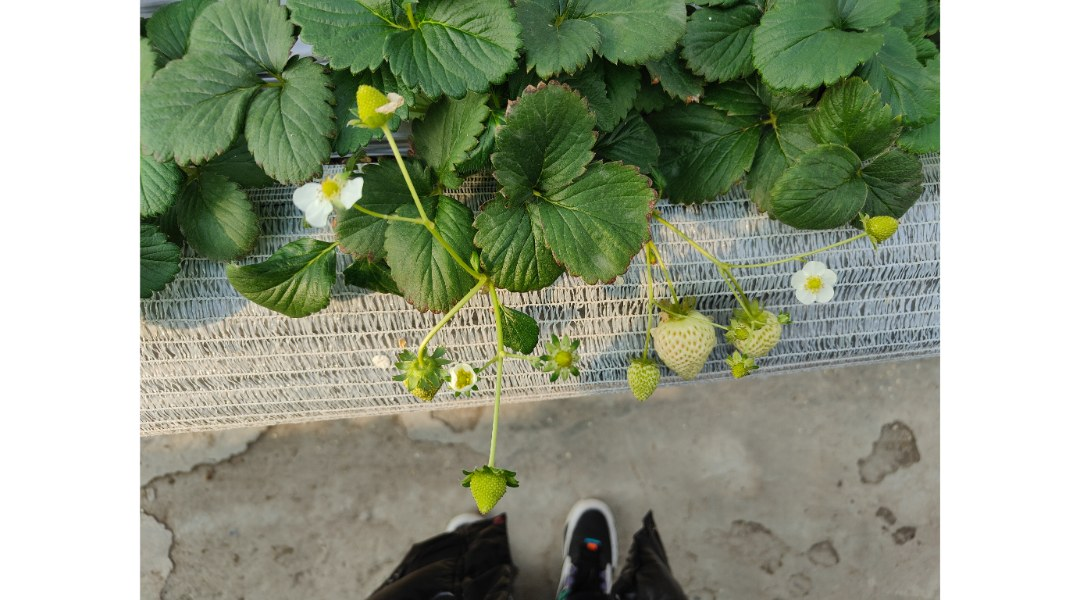berry: (645, 288, 719, 378), (730, 297, 786, 365), (389, 344, 442, 412), (461, 462, 519, 523), (540, 331, 586, 404), (346, 71, 398, 131), (622, 355, 664, 407), (847, 210, 910, 241), (724, 354, 749, 391)
flower: (291, 174, 375, 232), (784, 249, 848, 314), (445, 354, 482, 397)
strain: (662, 212, 723, 259), (386, 135, 422, 211), (425, 226, 476, 276), (429, 284, 475, 338), (485, 373, 506, 476), (632, 249, 655, 318), (358, 211, 417, 226), (742, 255, 785, 272)
